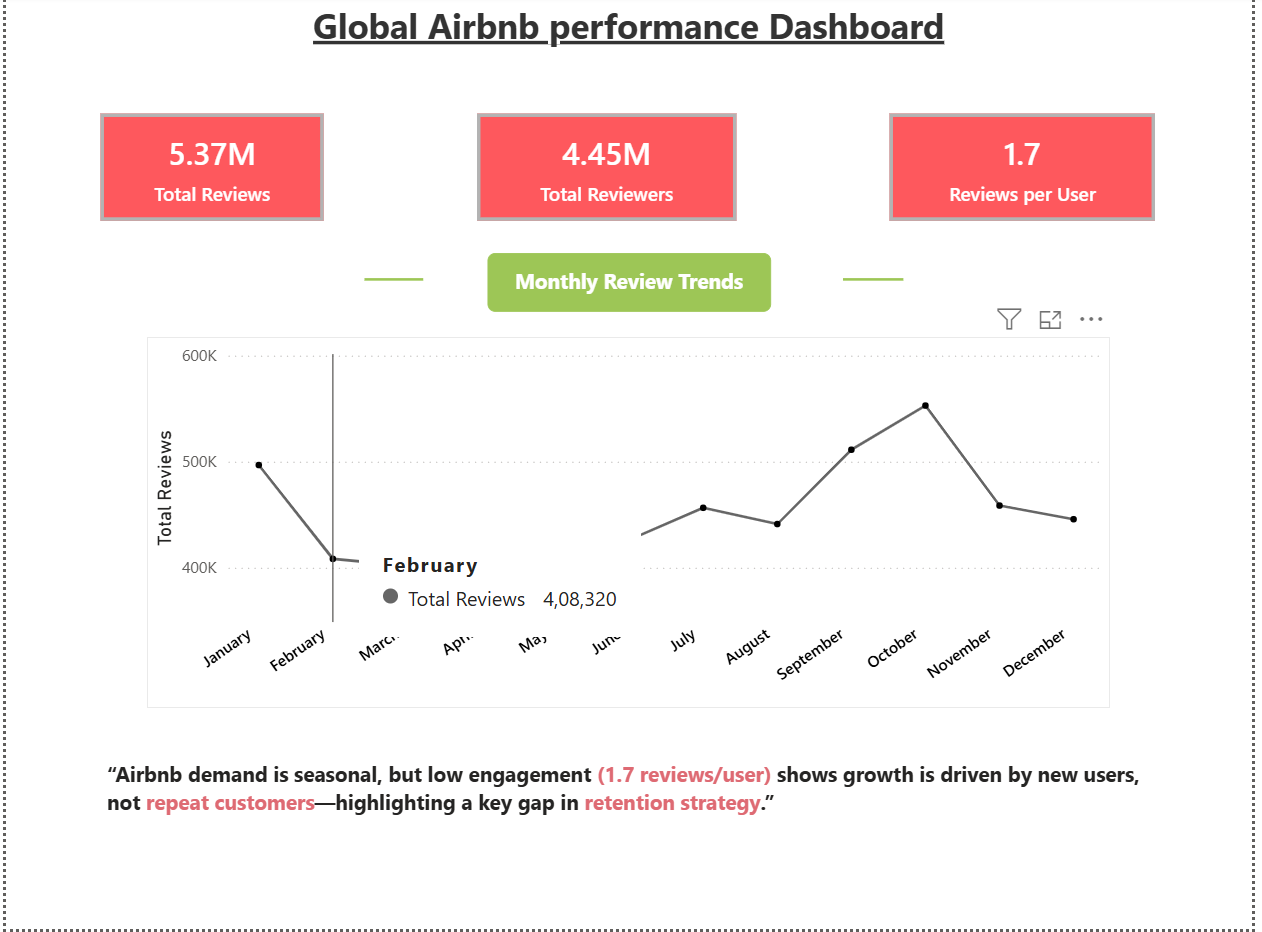

Layout of this report page (visuals, bound fields, positions):
{"tool":"powerbi","page":{"name":"Review","canvas":[960,720],"ordinal":2},"visuals":[{"type":"textbox","box":[187.3,0,585.4,62.4],"z":0},{"type":"card","fields":{"Values":["Reviews.Total Reviews"]},"box":[72.9,91.8,172.2,83],"z":1000},{"type":"card","fields":{"Values":["Reviews.Total Reviewers"]},"box":[363.4,91.8,199.9,83],"z":2000},{"type":"card","fields":{"Values":["Avg(Reviews.Reviews per Reviewer)"]},"box":[681.5,91.8,204.9,83],"z":3000},{"type":"textbox","box":[370.6,198.7,218.8,45.3],"z":4000},{"type":"shape","box":[276.6,174.8,45.3,89.3],"z":5000},{"type":"shape","box":[645,174.8,46.5,89.3],"z":6000},{"type":"textbox","box":[72.9,583.4,813.5,95.6],"z":7000},{"type":"lineChart","fields":{"Y":["Reviews.Total Reviews"],"Category":["Reviews.date.Variation.Date Hierarchy.Month"]},"box":[109.1,264,741.8,285.4],"z":8000}]}

Visuals, with their boxes in screenshot pixels (x1, y1, x2, y2), scaled from the page's 960x720 canvas onto the 1262x932 screenshot:
textbox: (x1=246, y1=0, x2=1016, y2=81)
card - Reviews.Total Reviews: (x1=96, y1=119, x2=322, y2=226)
card - Reviews.Total Reviewers: (x1=478, y1=119, x2=741, y2=226)
card - Avg(Reviews.Reviews per Reviewer): (x1=896, y1=119, x2=1165, y2=226)
textbox: (x1=487, y1=257, x2=775, y2=316)
shape: (x1=364, y1=226, x2=423, y2=342)
shape: (x1=848, y1=226, x2=909, y2=342)
textbox: (x1=96, y1=755, x2=1165, y2=879)
lineChart - Reviews.Total Reviews x Reviews.date.Variation.Date Hierarchy.Month: (x1=143, y1=342, x2=1119, y2=711)
